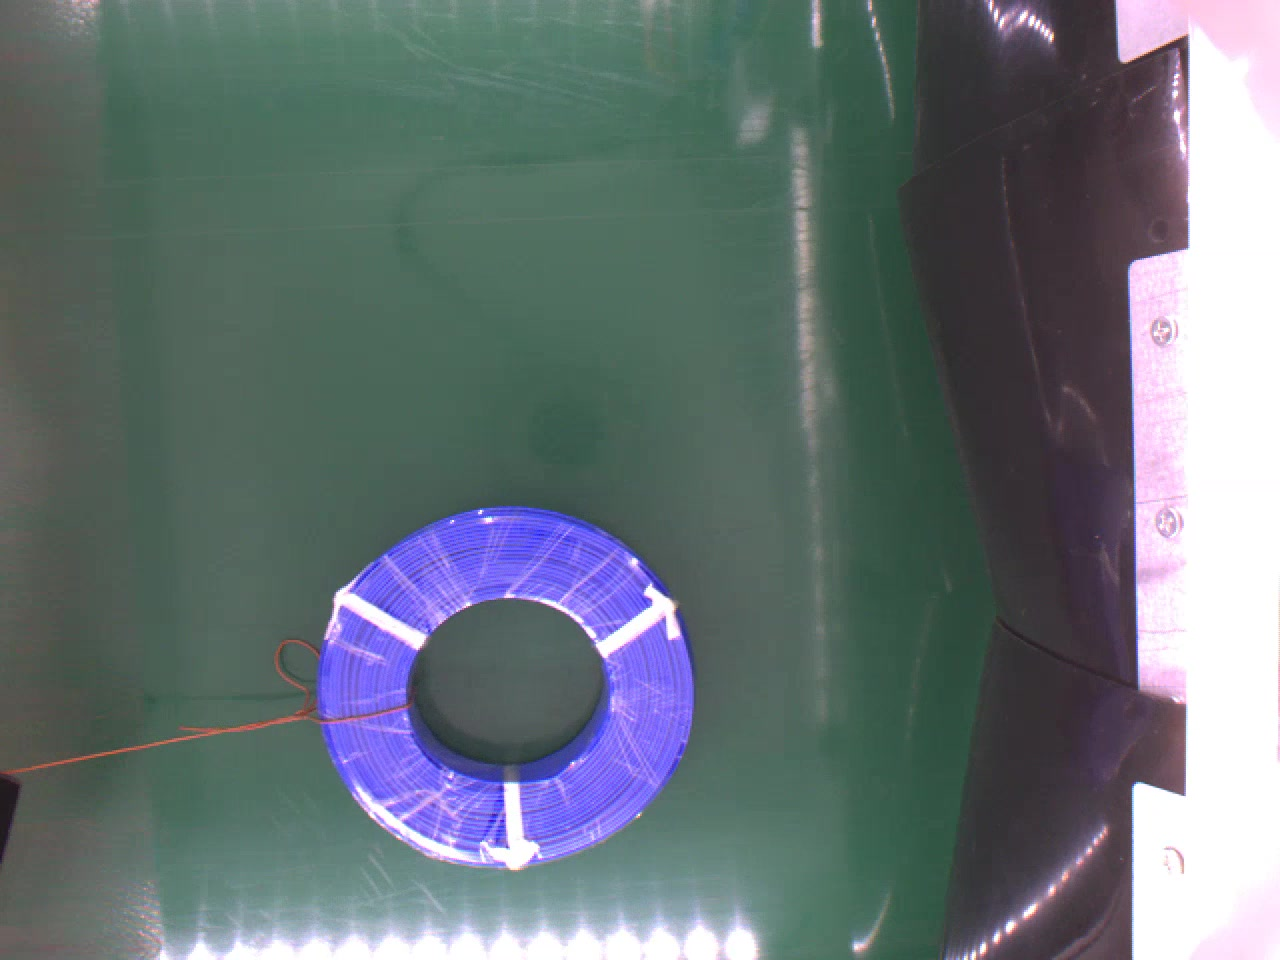blue: (313, 500, 696, 872)
